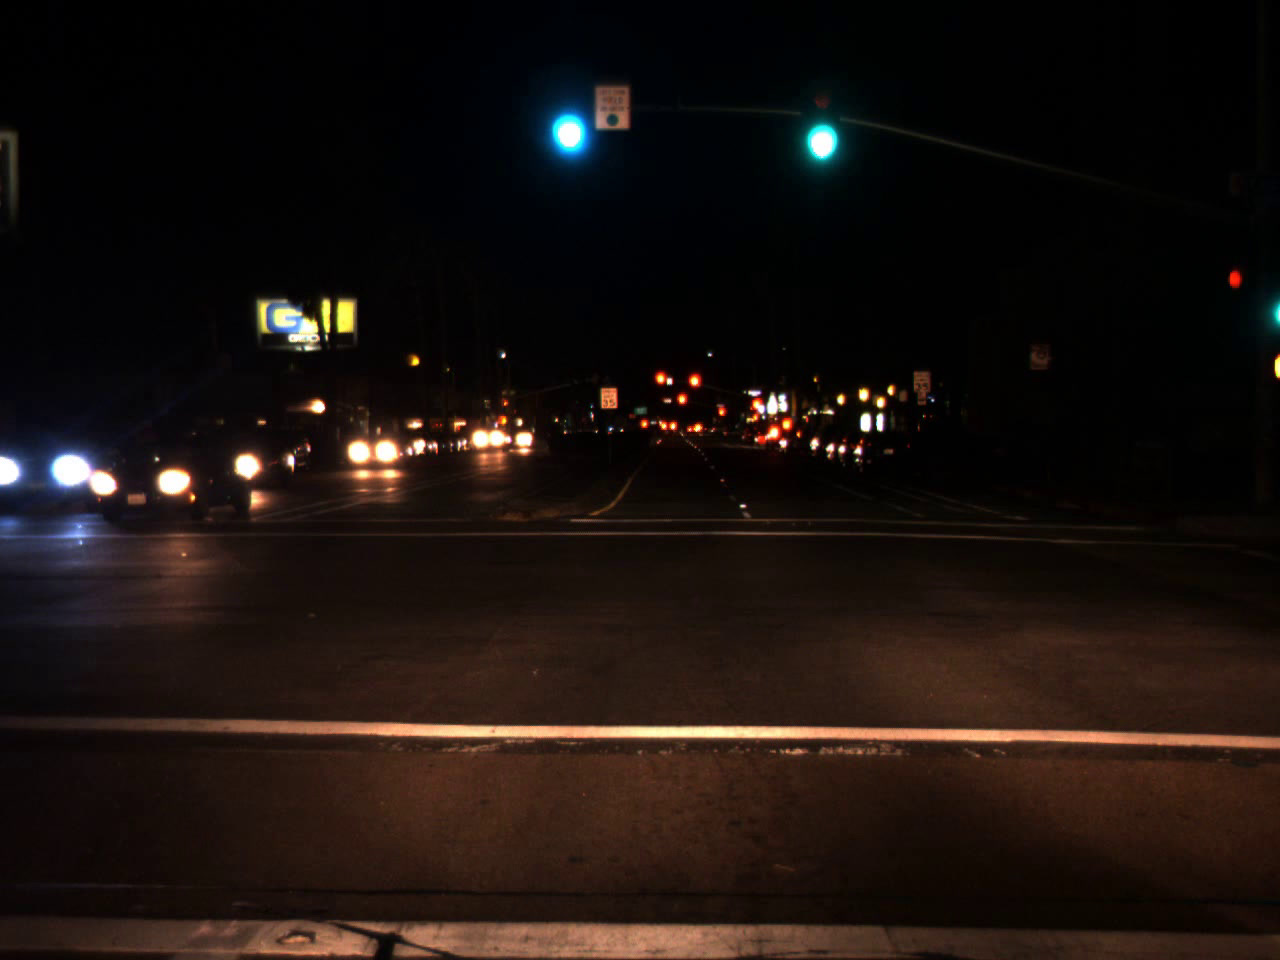go: (802, 95, 838, 167), (547, 91, 586, 157)
stop: (653, 369, 671, 401), (686, 371, 702, 403), (675, 391, 688, 418), (750, 396, 763, 412), (717, 406, 727, 427), (503, 398, 509, 414)
